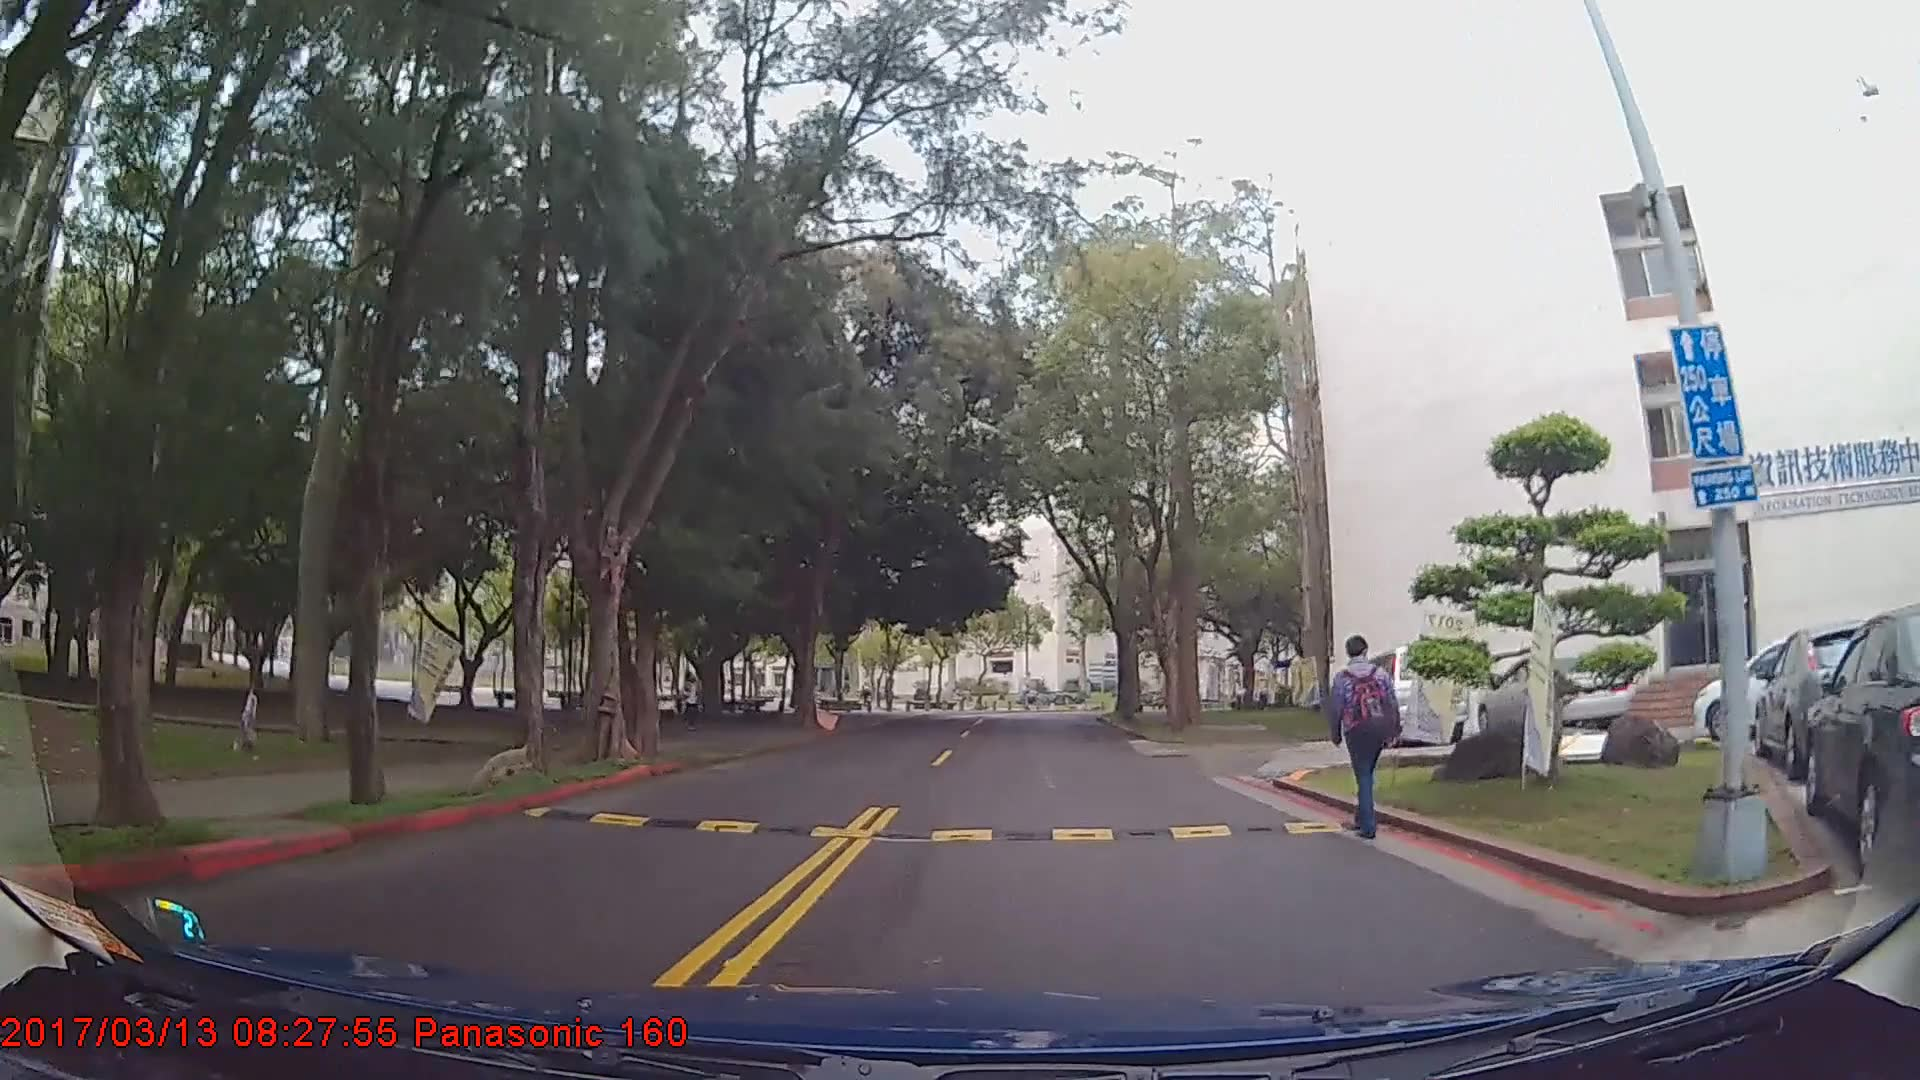pedestrian: (1325, 630, 1404, 841), (679, 669, 705, 732)
vehicle: (1802, 598, 1920, 873)
